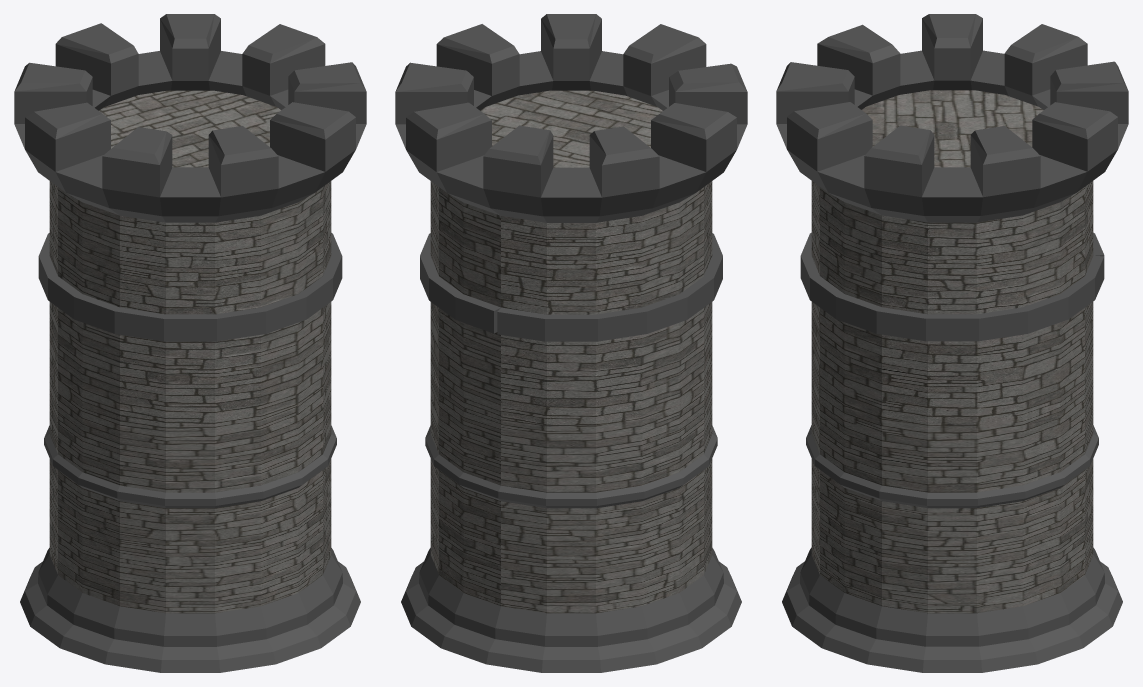
Rendered from wall_tower.fbx.
The picture shows the model from 3 angles, left to right: view 1: azimuth 30°, elevation 25°; view 2: azimuth 150°, elevation 25°; view 3: azimuth 270°, elevation 25°; orthographic projection.
Parts seen in each view (by area): view 1: wall, pCylinder1; view 2: wall, pCylinder1; view 3: wall, pCylinder1.
Boxes of the visible parts, x1=… form: wall: x1=14, y1=14, x2=366, y2=672; pCylinder1: x1=99, y1=90, x2=280, y2=167; wall: x1=395, y1=14, x2=747, y2=672; pCylinder1: x1=480, y1=90, x2=662, y2=167; wall: x1=776, y1=14, x2=1128, y2=672; pCylinder1: x1=862, y1=90, x2=1043, y2=167.
Bounding box in the file's own units: 16.03 × 26.34 × 16.27.
